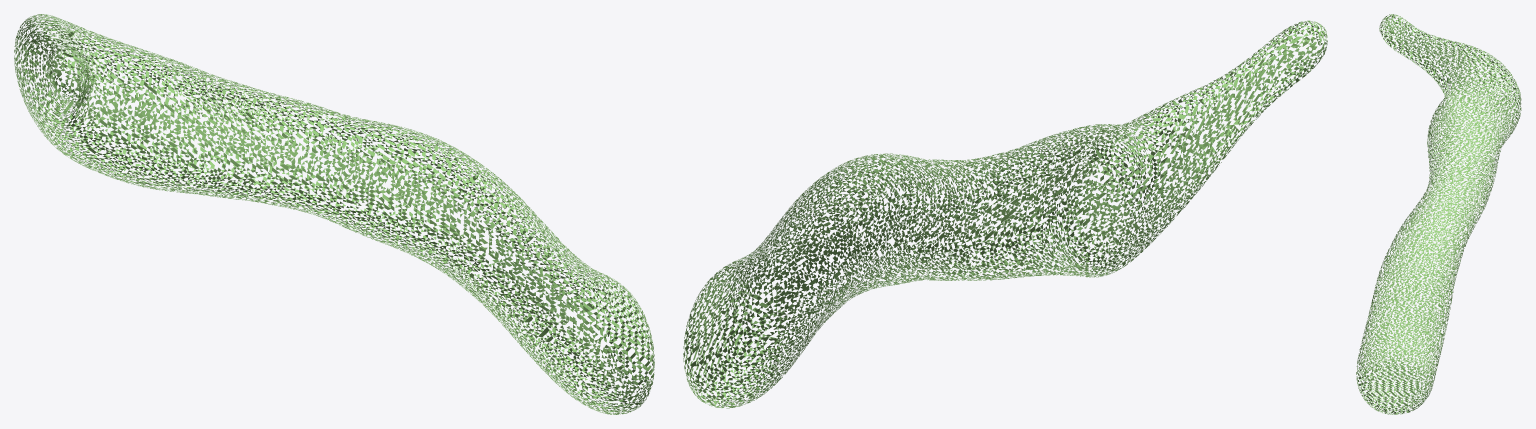
File: morph_014.glb
The picture shows the model from 3 angles, left to right: view 1: azimuth 30°, elevation 25°; view 2: azimuth 150°, elevation 25°; view 3: azimuth 270°, elevation 25°; orthographic projection. The views are drawn at different scales.
Size of the model in its own units: 114 by 92.17 by 53.21.
